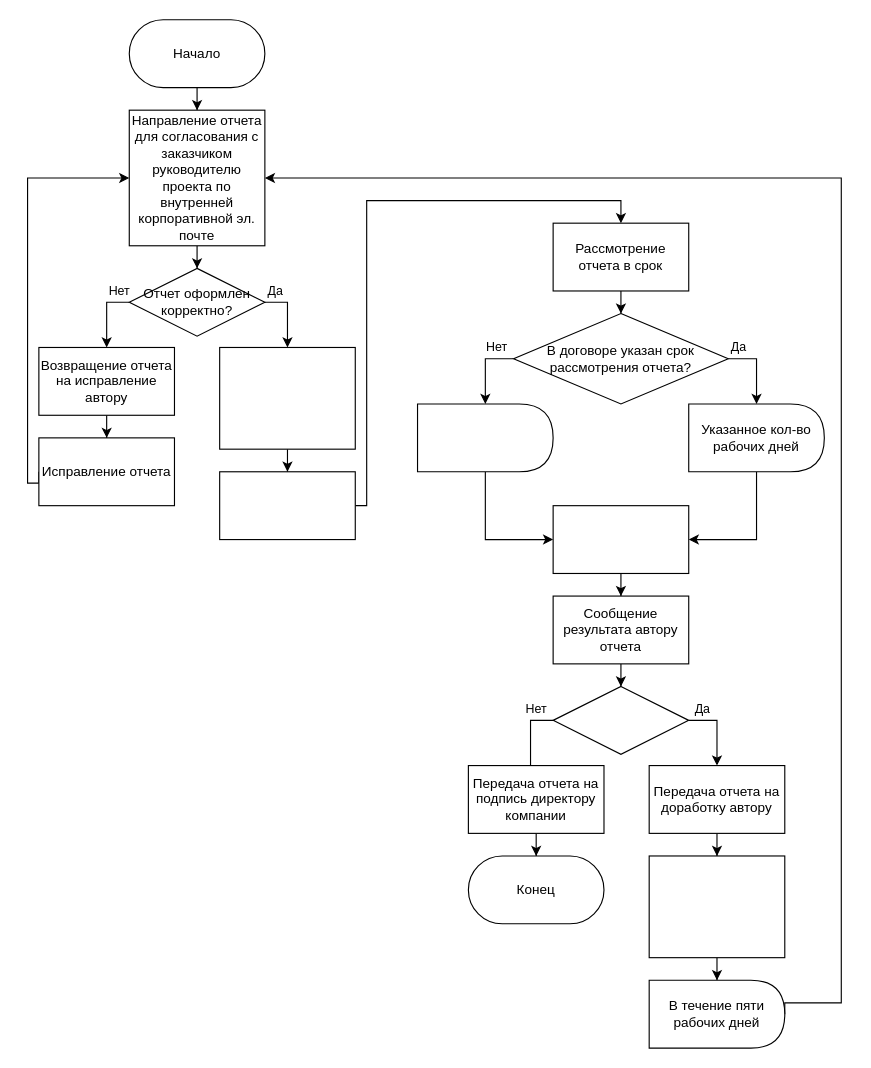
Image size: 871x1068. Some labels were removed from this diagram. Here are the shapes that lost their labels. From the top down, the centre of each, then its label:
At (287,397): "Отправка документа в электронном виде согласующим лицам со стороны заказчика".
At (484,437): "Не более семи рабочих дней".
At (287,505): "Отправка копии эл. письма автору отчета".
At (620,539): "Возврат отчета от заказчика руководителю проекта в эл. виде".
At (620,719): "Есть замечания?".
At (716,906): "Устранение всех замечаний, полученных от согласующих лиц со стороны заказчика".
